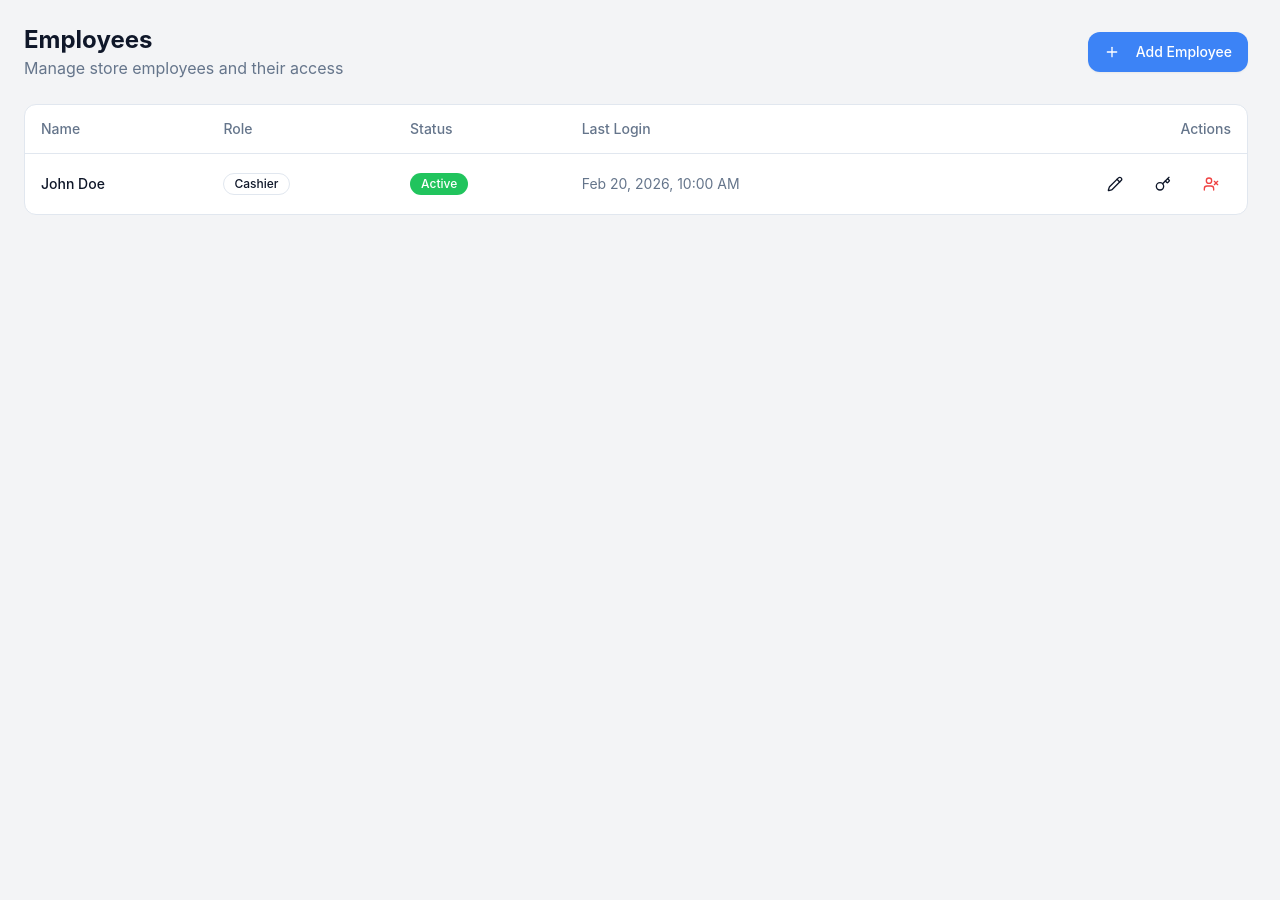
Test: EmployeesPage Dialog Error Handling › Edit Employee Dialog Error Handling › DE-002: should display editError inside Edit Employee dialog (ERR-006)
# Open edit dialog via edit button
Click the button named "edit employee" at point(1115, 184), box [1095, 166, 1135, 202]
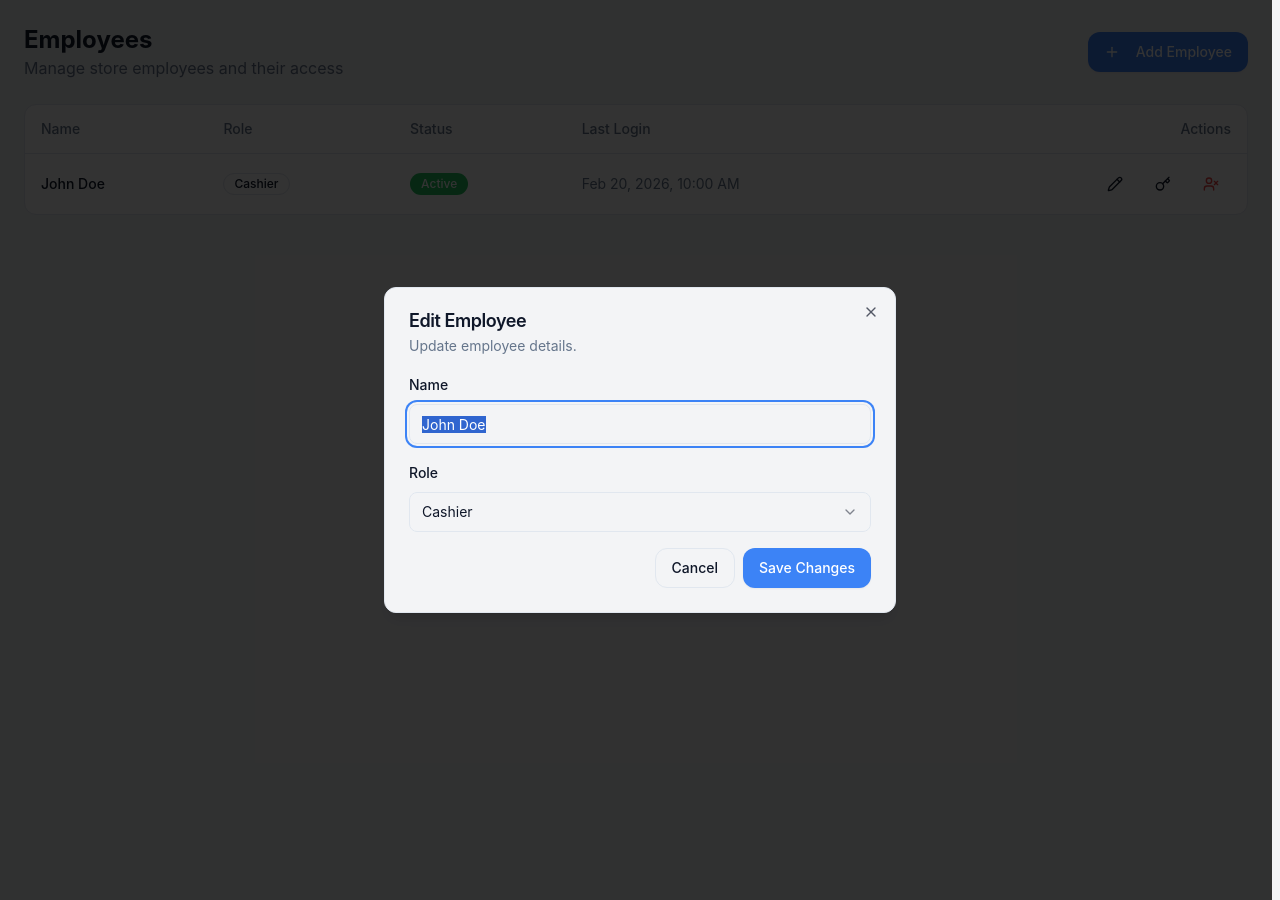
# Submit the form to trigger error
Click the button "Save Changes" at point(807, 568), box [743, 548, 871, 588]
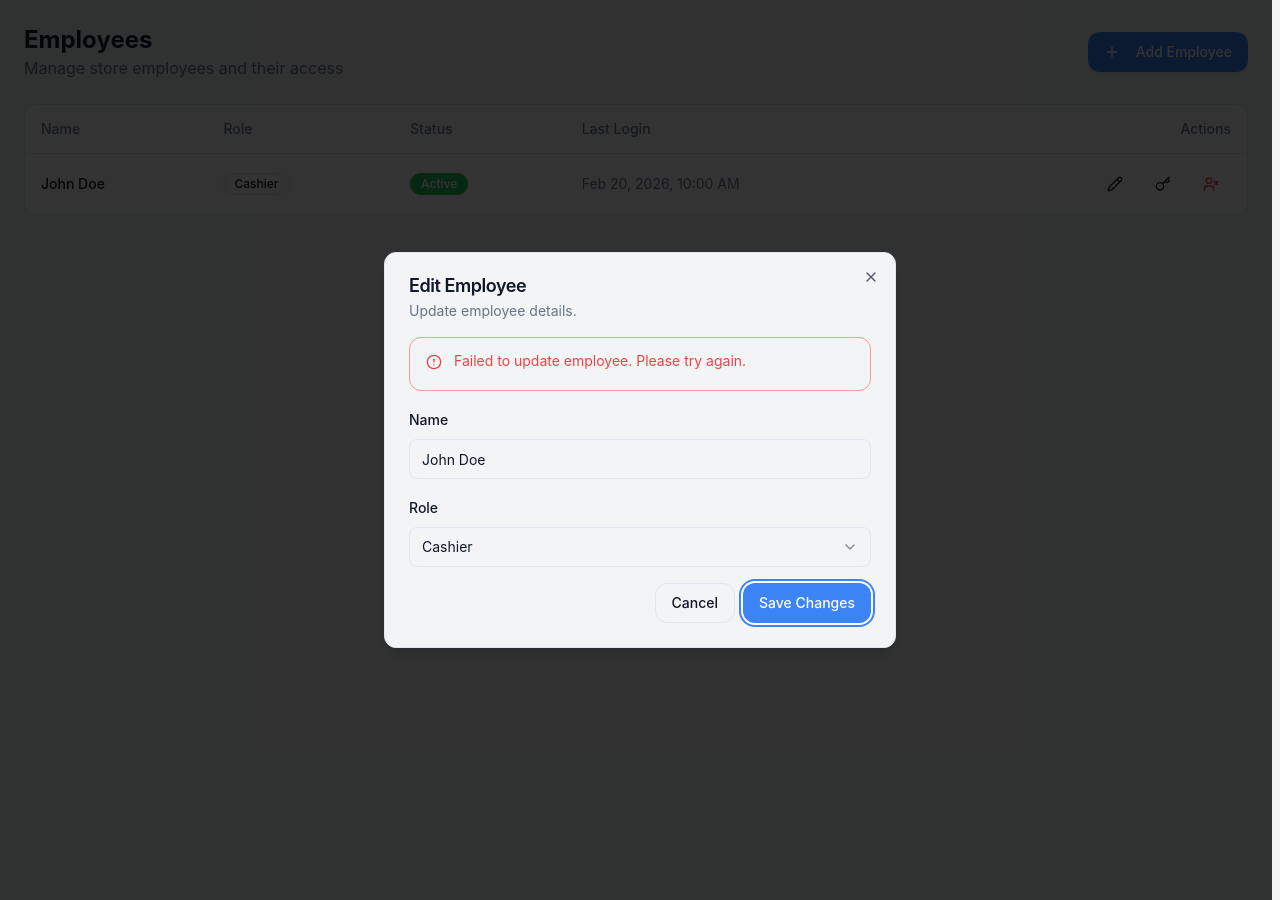
Result: the message "Failed to update employee. Please try again." is shown at [409, 337, 871, 391]
Result: the message reads "Failed to update employee. Please try again." at [454, 352, 746, 369]
